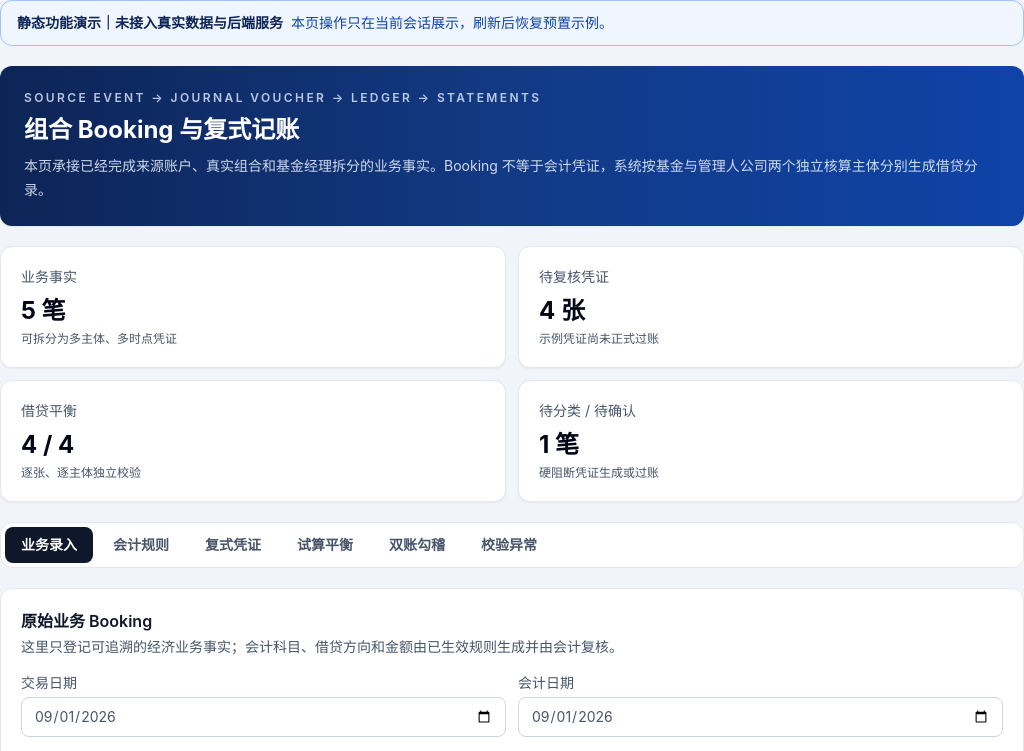
Test: AccountingBookingWorkspace › 借贷不平时硬阻断，修正后只允许进入复核
Click the button "校验异常" at (509, 545), box [465, 527, 553, 563]
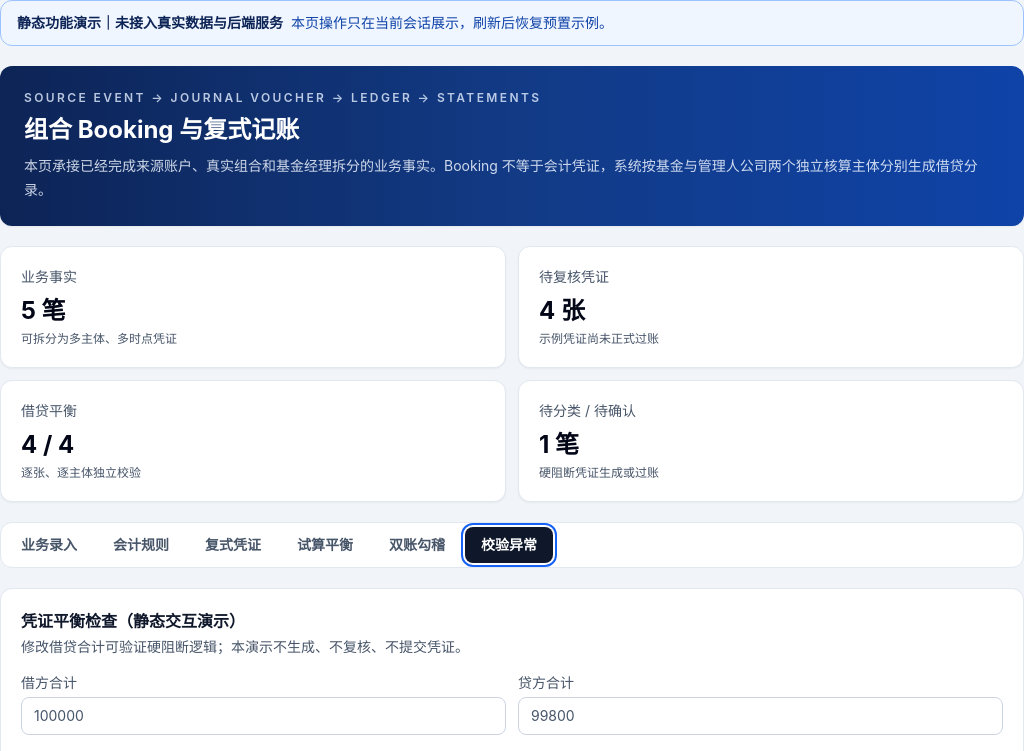
Replace the text in the field named "校验贷方合计" with "100000" at (760, 716), box [518, 697, 1003, 735]
(page scrolled)
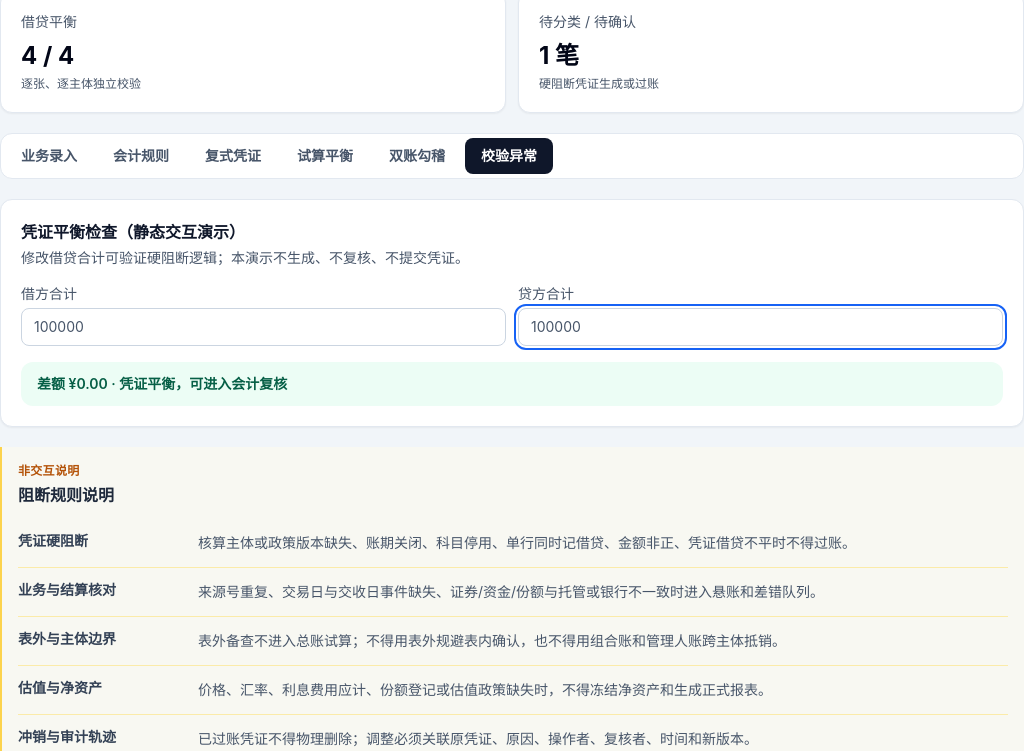
Now the text "差额 ¥0.00 · 凭证平衡，可进入会计复核" is shown, box [21, 362, 1003, 406]
